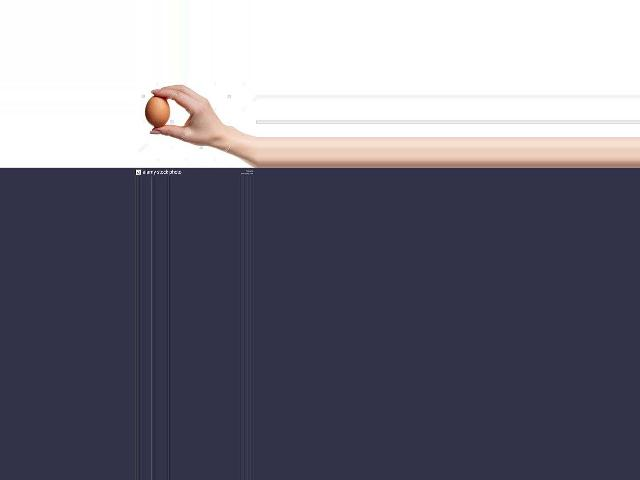egg: (145, 96, 171, 127)
